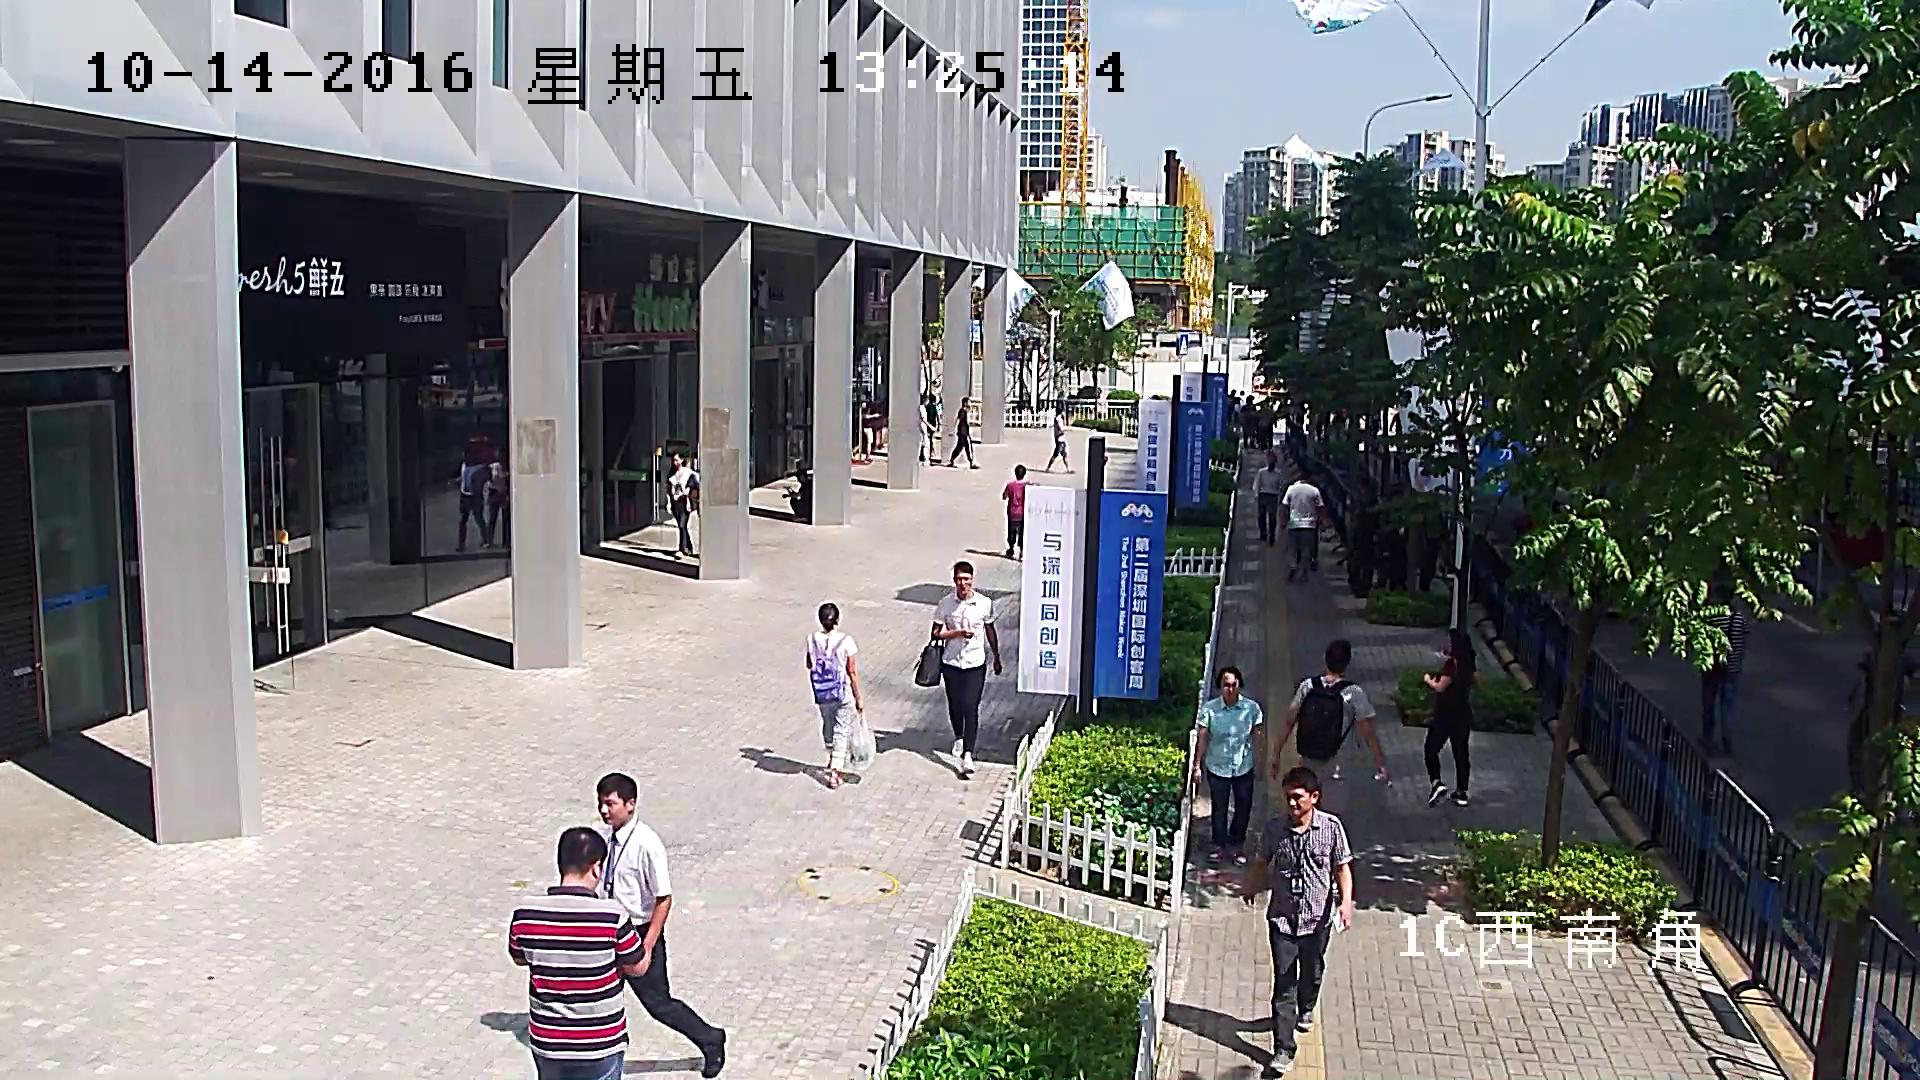person: (595, 774, 726, 1077), (508, 826, 648, 1080), (1242, 767, 1353, 1073), (1269, 639, 1393, 821), (913, 561, 1003, 775), (1192, 667, 1263, 864), (804, 602, 876, 789), (1848, 625, 1920, 798), (1424, 629, 1479, 807), (1697, 586, 1752, 753), (1280, 467, 1330, 582), (1345, 478, 1380, 597), (456, 444, 490, 552), (666, 452, 698, 557), (1001, 464, 1030, 560), (1252, 453, 1281, 545), (946, 397, 977, 468), (488, 448, 510, 547), (1044, 407, 1076, 473), (853, 390, 882, 461), (781, 468, 811, 522), (919, 394, 937, 465), (919, 394, 939, 460), (1254, 400, 1276, 453), (925, 395, 938, 459), (1240, 396, 1256, 447), (1227, 387, 1240, 426)
